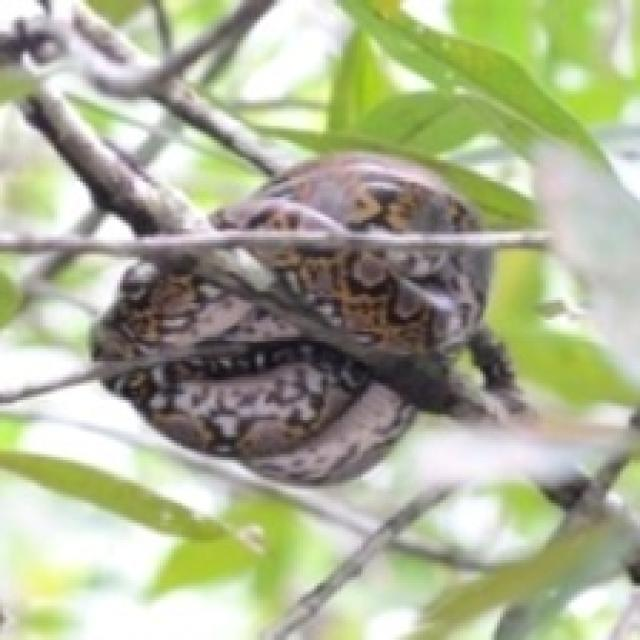reticulated python: (57, 240, 529, 483), (77, 154, 477, 243)
